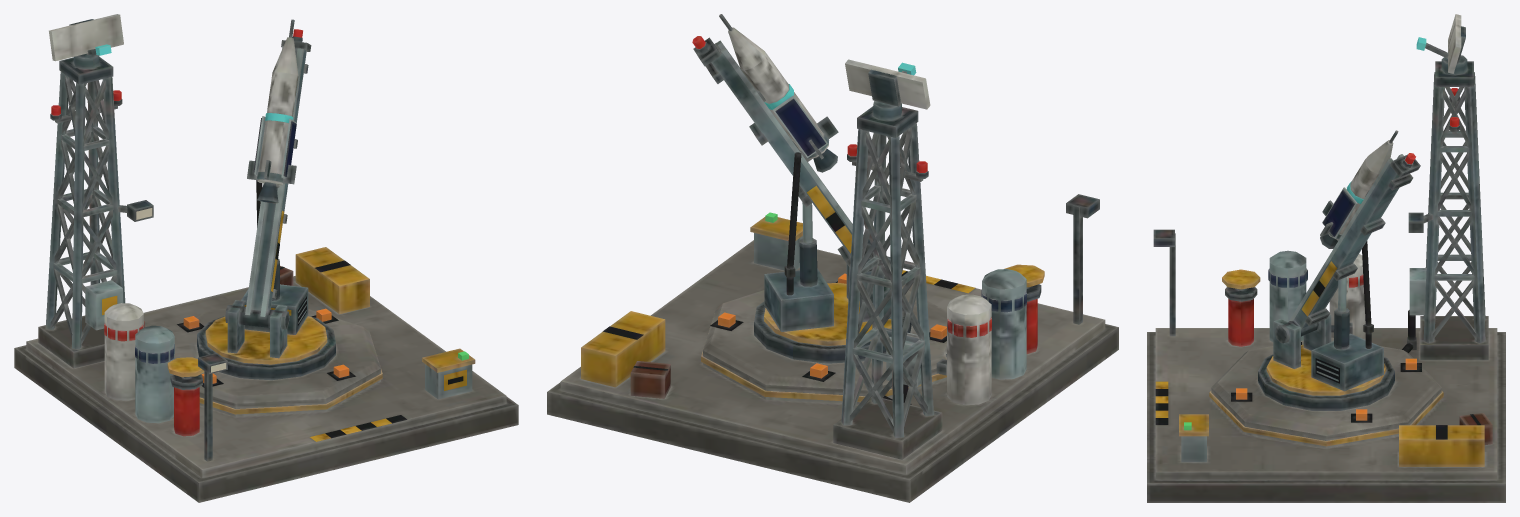
File: probe_launcher.glb
3 renders of one model, left to right at view 1: azimuth 30°, elevation 25°; view 2: azimuth 150°, elevation 25°; view 3: azimuth 270°, elevation 25°, orthographic. The views are drawn at different scales.
Parts seen in each view (by area): view 1: te_probe_launcher, move_scope, move_sensor; view 2: te_probe_launcher, move_scope, move_sensor; view 3: te_probe_launcher, move_scope, move_sensor.
Boxes of the visible parts, x1,y1,x2,y2 form: te_probe_launcher: (14,57,518,502); move_scope: (197,19,335,380); move_sensor: (49,14,123,69); te_probe_launcher: (547,106,1118,502); move_scope: (692,14,911,363); move_sensor: (845,59,930,120); te_probe_launcher: (1147,61,1505,502); move_scope: (1258,130,1420,410); move_sensor: (1416,14,1467,74).
Size of the model in its own units: 0.84 by 0.8856 by 0.84.
Materials: 1 (1 with a texture image).
